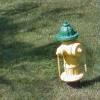a fire hydrant: (54, 24, 87, 81)
